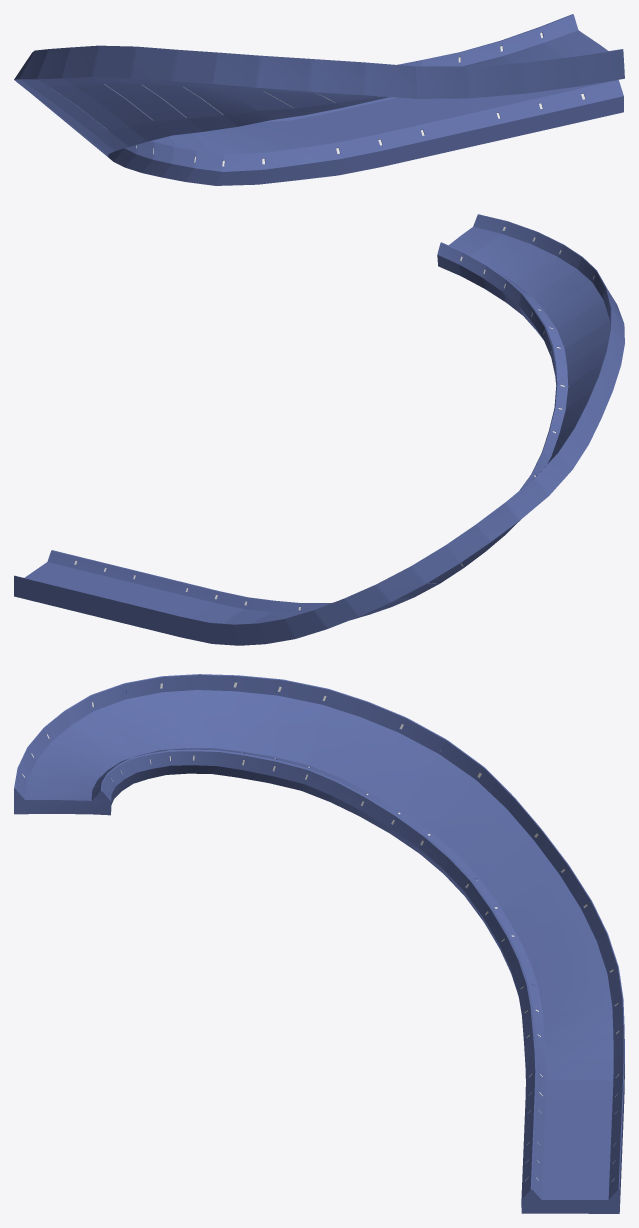
The model's file is staticmesh_Bridge_HalfTrackRightTurn.fbx.
3 renders of one model, top to bottom at view 1: azimuth 30°, elevation 25°; view 2: azimuth 150°, elevation 25°; view 3: azimuth 270°, elevation 25°, orthographic. The views are drawn at different scales.
Visible parts, largest first — view 1: geo_Bridge_HalfTrackRightTurn; view 2: geo_Bridge_HalfTrackRightTurn; view 3: geo_Bridge_HalfTrackRightTurn.
Boxes of the visible parts, x1,y1,x2,y2 form: geo_Bridge_HalfTrackRightTurn: [14, 14, 624, 185]; geo_Bridge_HalfTrackRightTurn: [14, 214, 624, 645]; geo_Bridge_HalfTrackRightTurn: [14, 674, 624, 1213].
Size of what is drawn, in the model's own units: 2579 by 1342 by 2427.
